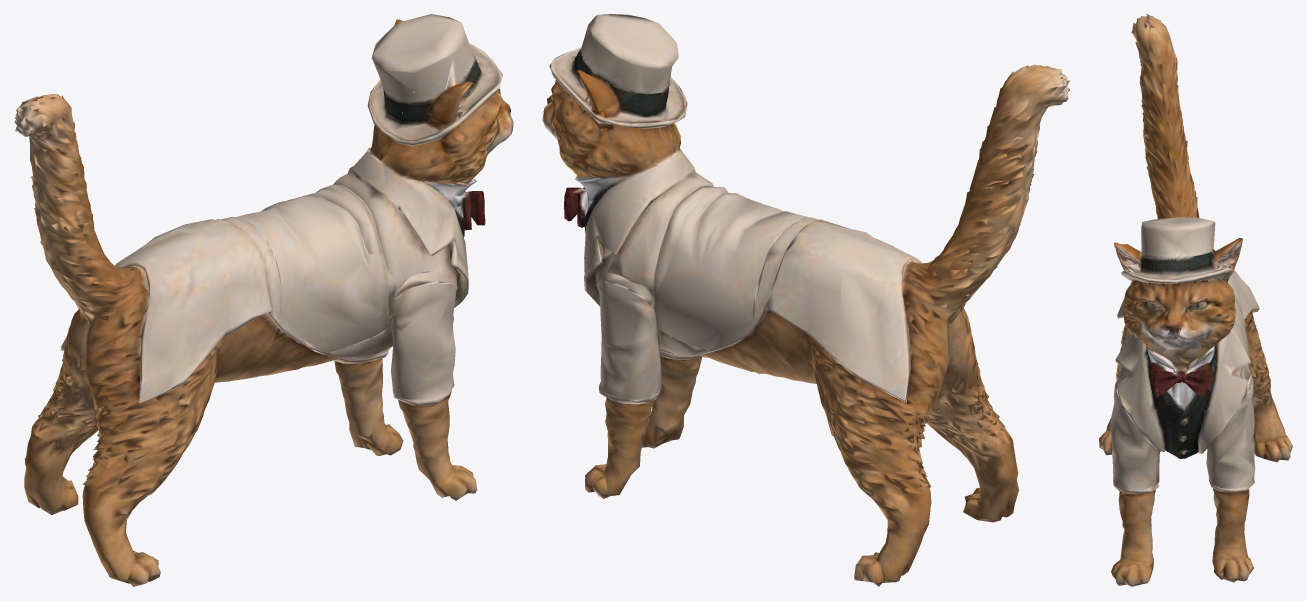
File: GIKKINGEN-lo.glb
3 views of the same model, side by side, from view 1: azimuth 30°, elevation 25°; view 2: azimuth 150°, elevation 25°; view 3: azimuth 270°, elevation 25° (orthographic). The views are drawn at different scales.
Parts seen in each view (by area): view 1: tripo_node_233d3f1b-295c-4e0f-815c-659e613d774d; view 2: tripo_node_233d3f1b-295c-4e0f-815c-659e613d774d; view 3: tripo_node_233d3f1b-295c-4e0f-815c-659e613d774d.
Boxes of the visible parts, x1,y1,x2,y2 form: tripo_node_233d3f1b-295c-4e0f-815c-659e613d774d: [14, 14, 513, 586]; tripo_node_233d3f1b-295c-4e0f-815c-659e613d774d: [542, 14, 1070, 586]; tripo_node_233d3f1b-295c-4e0f-815c-659e613d774d: [1099, 14, 1292, 586].
Bounding box in the file's own units: 1.09 × 0.9996 × 0.4364.
Materials: 1 (1 with a texture image).
